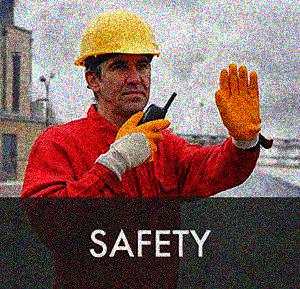helmet: (71, 10, 163, 111)
